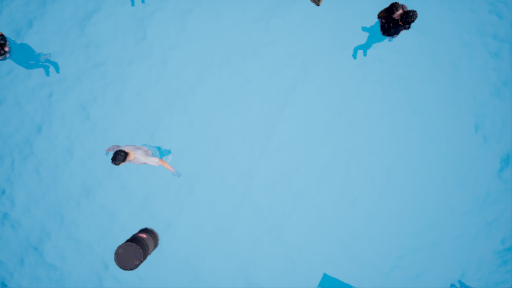person: (349, 4, 421, 58), (108, 139, 183, 183)
